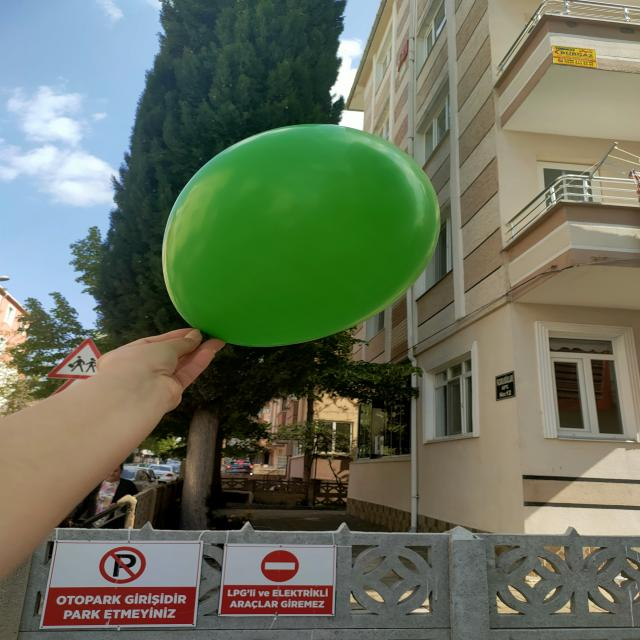green: (165, 125, 441, 348)
